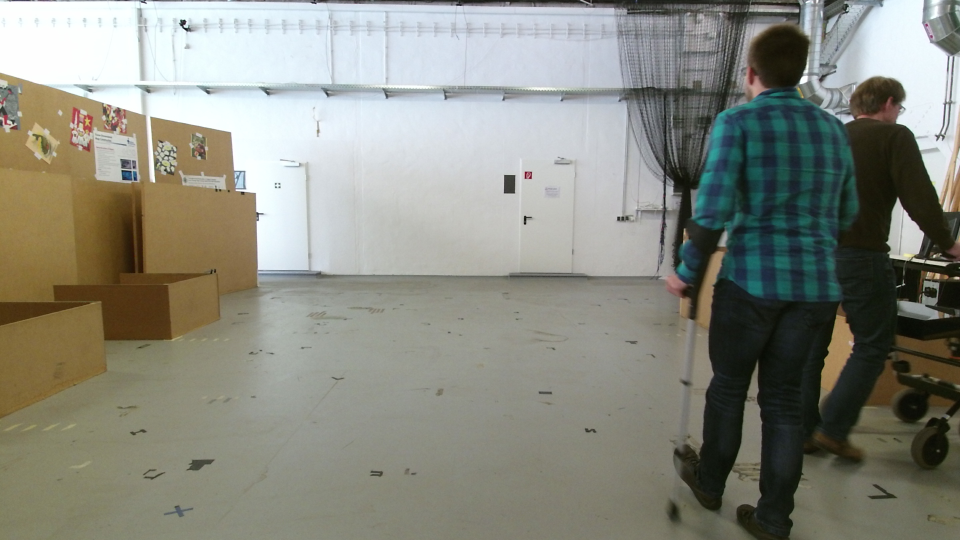crutches: (658, 25, 857, 538)
